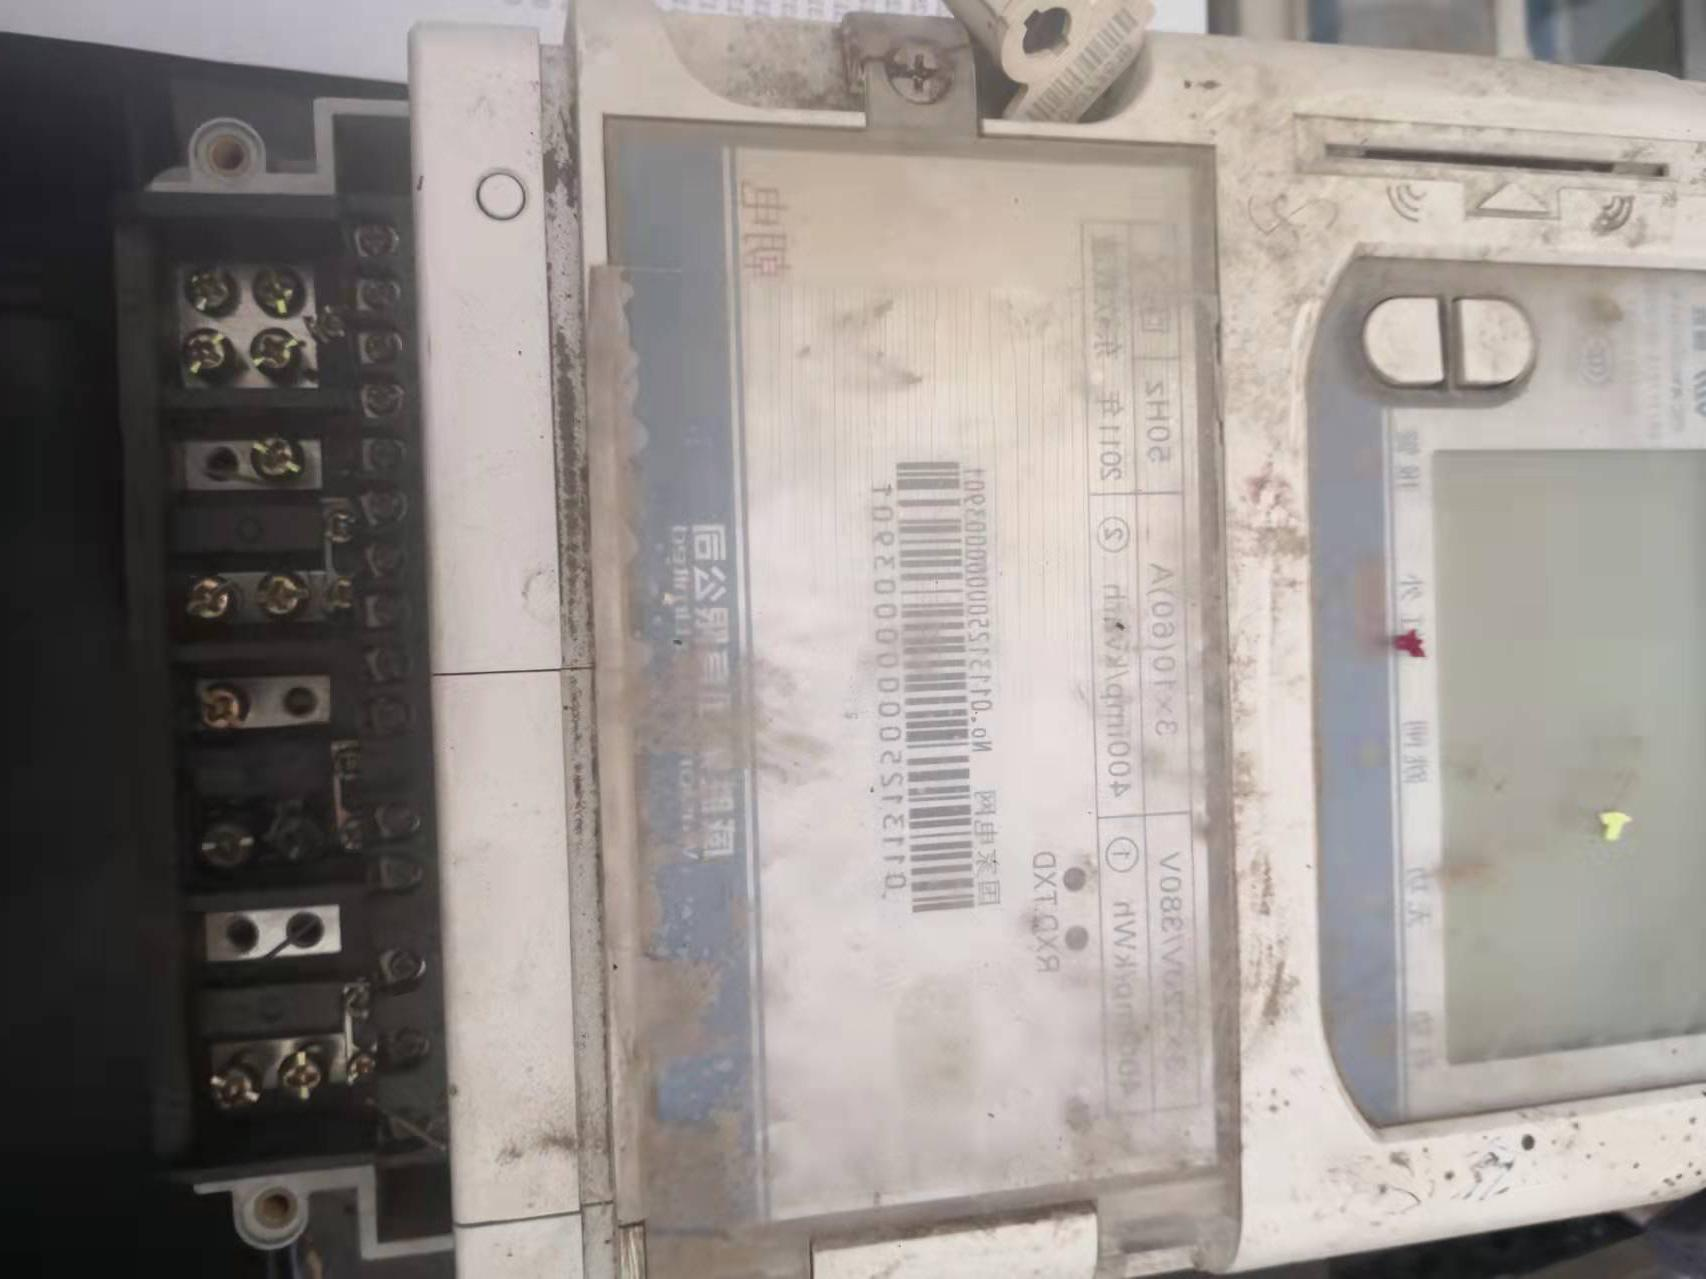digital: (571, 1, 1705, 1276)
